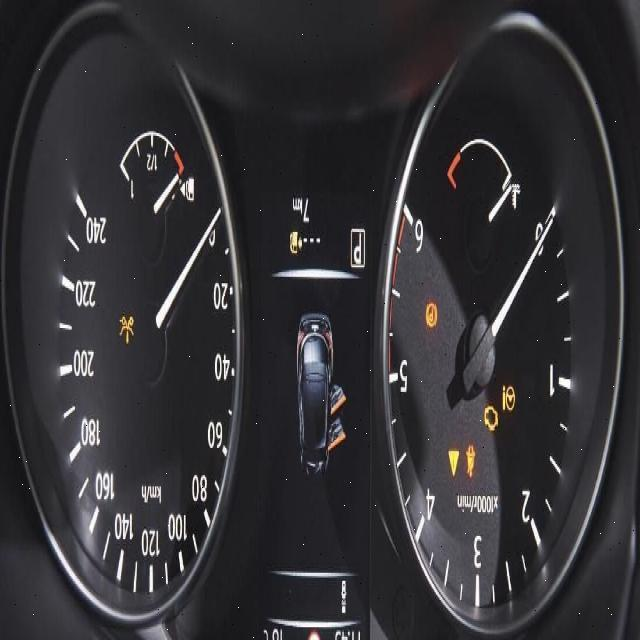Electronic Power Steering Warning: (502, 382, 522, 413)
Seat Belt: (464, 444, 478, 478)
